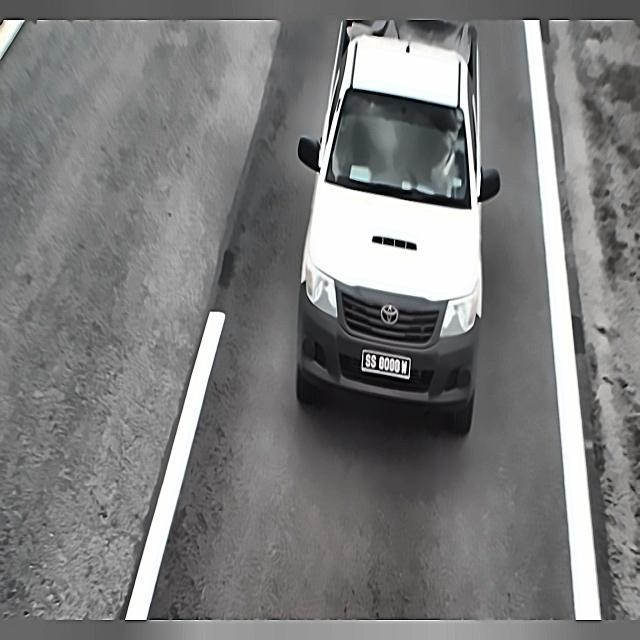car: (358, 346, 417, 384)
